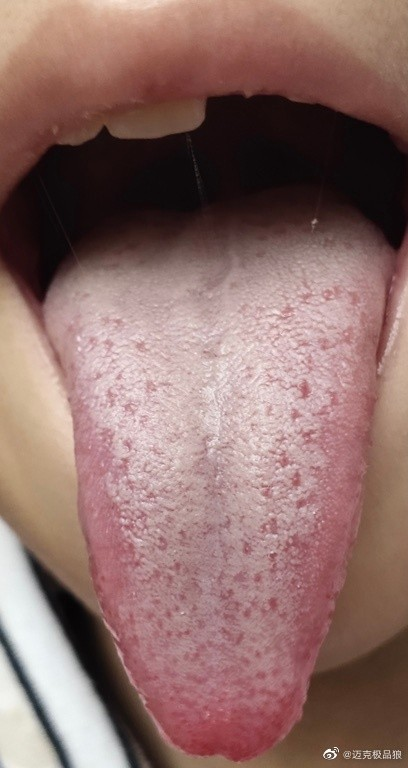baitaishe: (43, 177, 389, 765)
hongshe: (43, 177, 389, 765)
xinfeiao: (187, 739, 248, 763), (263, 595, 281, 613)
